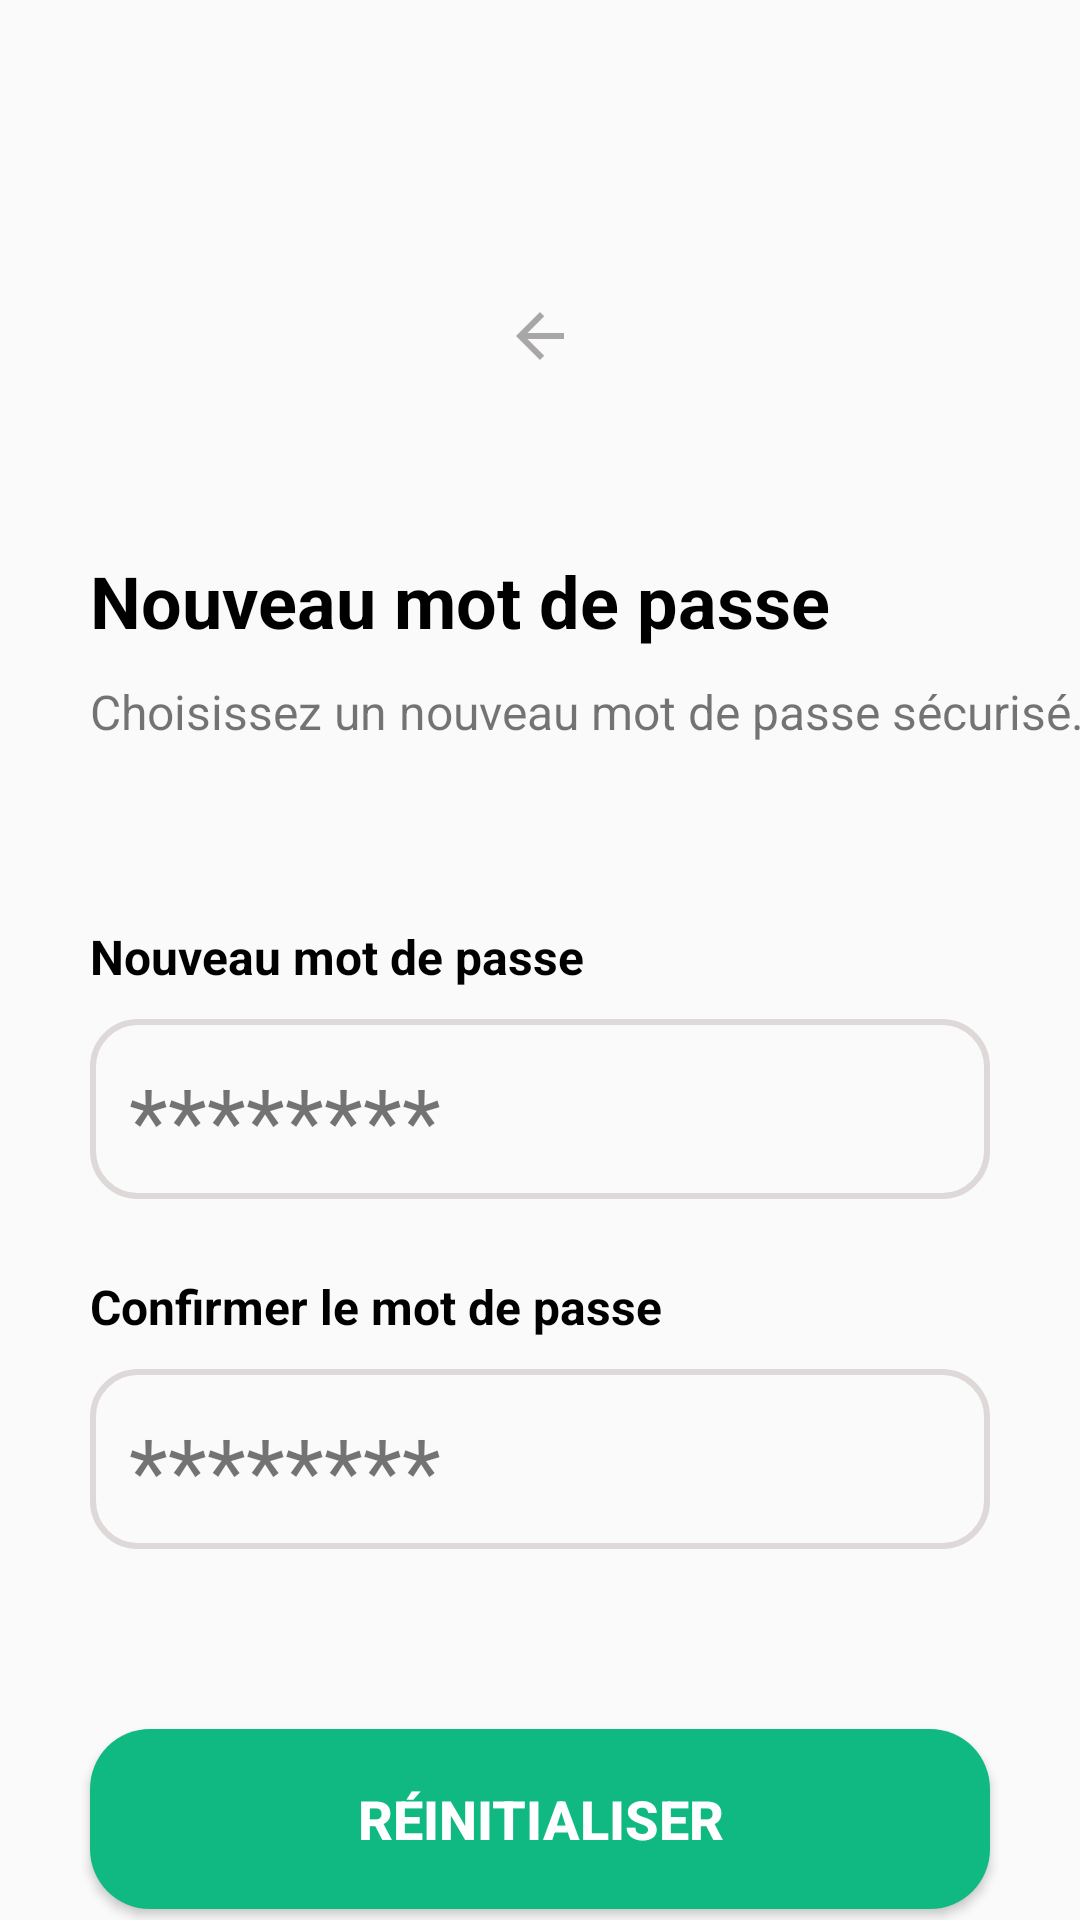

Icon bounding boxes for this 1080px x 1920px phone screenshot, format (x1, y1, x2, y2):
arrow back: (516, 312, 564, 360)
